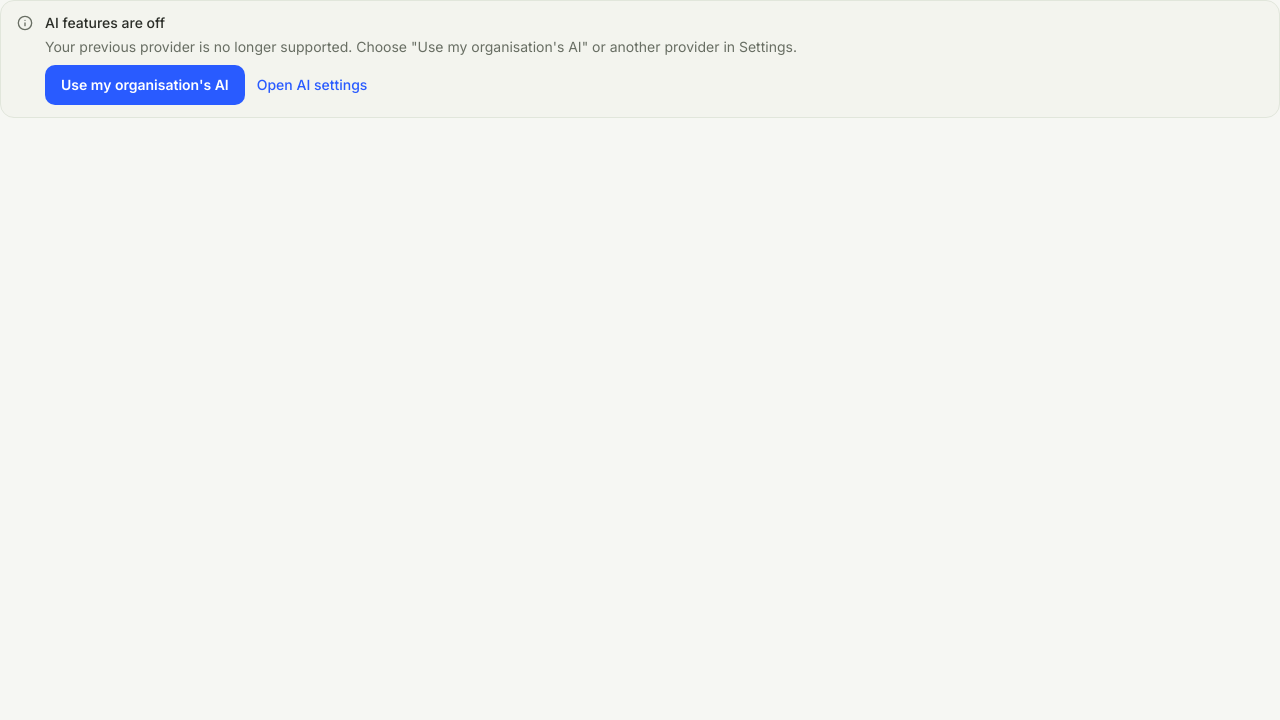
Scenario: OrgAIConsentDialog via the not-configured notice › row 7: 'Use my organisation's AI' confirms, then chooses the organisation (the confirmation first)
The image size is (1280, 720).
Later steps or results of the test are not shown.
Click the button with test id "ai-use-org". click: click(145, 85)
box: [45,65,245,105]
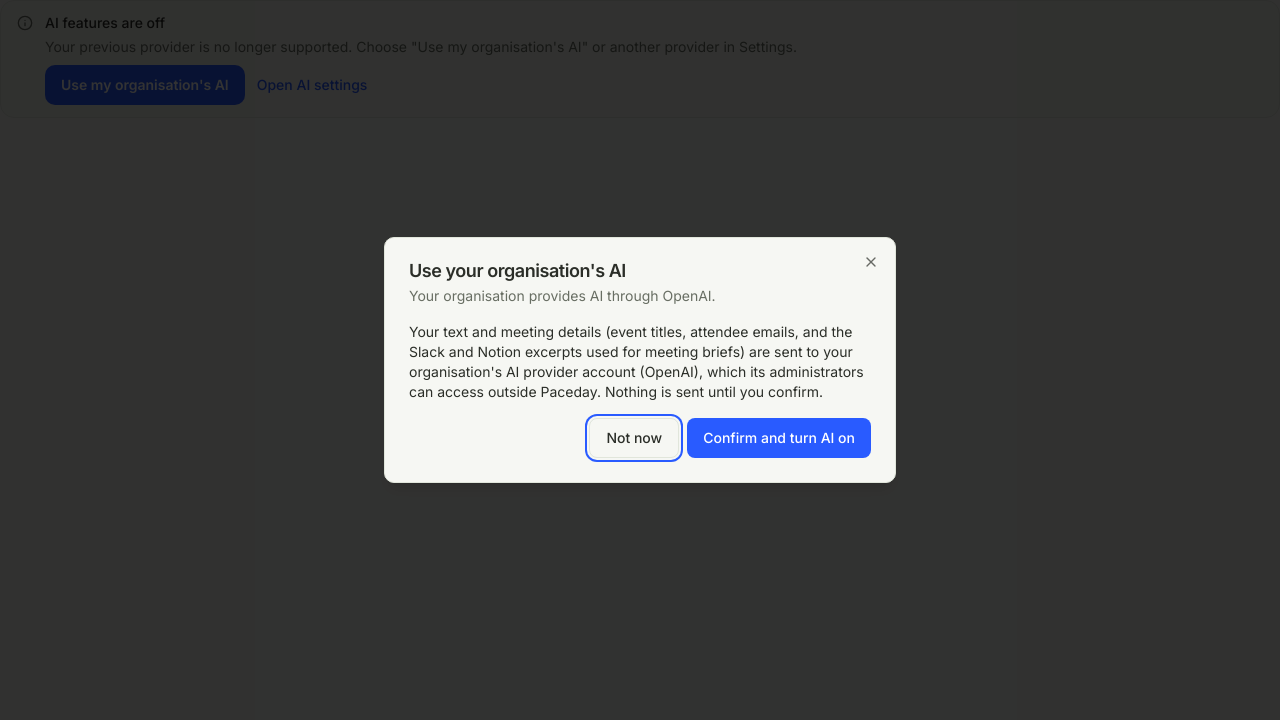
expect the text with test id "org-ai-consent-text" is shown: met, box [409,322,871,402]
